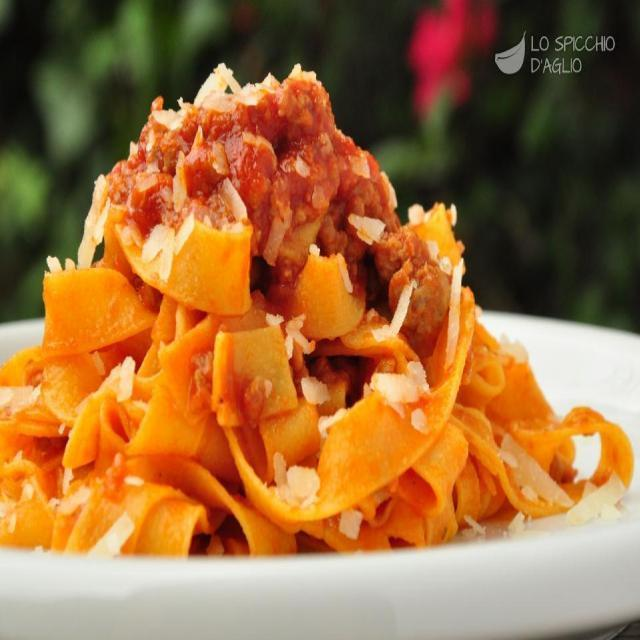Pasta al ragu: (47, 67, 482, 527)
